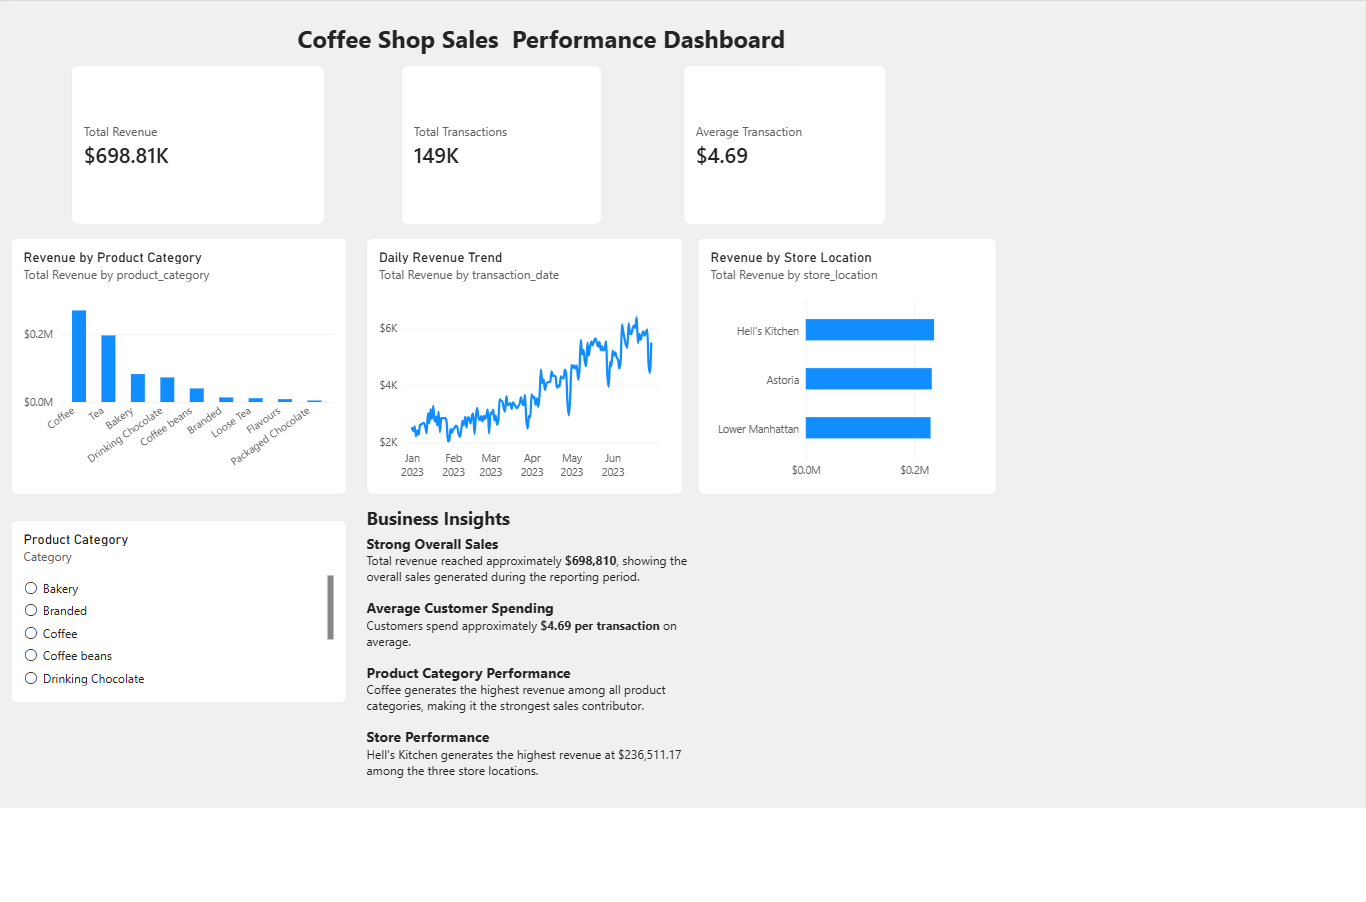

Layout of this report page (visuals, bound fields, positions):
{"tool":"powerbi","page":{"name":"Page 1","canvas":[1920,1080],"ordinal":0},"visuals":[{"type":"cardVisual","fields":{"Data":["Transactions.Total Revenue"]},"box":[96,86,338.6,212.9],"z":0},{"type":"cardVisual","fields":{"Data":["Transactions.Total Transactions"]},"box":[536,86,268.6,212.9],"z":1000},{"type":"cardVisual","fields":{"Data":["Transactions.Average Transaction"]},"box":[912,86,271.4,212.9],"z":2000},{"type":"clusteredColumnChart","title":"Revenue by Product Category","fields":{"Category":["Transactions.product_category"],"Y":["Transactions.Total Revenue"]},"box":[16,316,448,342],"z":3000},{"type":"lineChart","title":"Daily Revenue Trend","fields":{"Category":["Transactions.transaction_date"],"Y":["Transactions.Total Revenue"]},"box":[490,316,422,342],"z":4000},{"type":"clusteredBarChart","title":"Revenue by Store Location","fields":{"Category":["Transactions.store_location"],"Y":["Transactions.Total Revenue"]},"box":[932,316,398,342],"z":5000},{"type":"textbox","box":[380,27.5,686.2,115],"z":6000},{"type":"listSlicer","title":"Product Category","fields":{"Values":["Transactions.product_category"]},"box":[16,692,447,244],"z":7000},{"type":"textbox","box":[490,672,422,38],"z":8000},{"type":"textbox","box":[490,710,442,370],"z":9000}]}

Visuals, with their boxes on the page's 1920x1080 design canvas (x1, y1, x2, y2). These are canvas units, not pixel positions in the 1366x902 screenshot, which may show the page scaled, cropped or inside an application window:
cardVisual - Transactions.Total Revenue: 96 86 435 299
cardVisual - Transactions.Total Transactions: 536 86 805 299
cardVisual - Transactions.Average Transaction: 912 86 1183 299
"Revenue by Product Category" clusteredColumnChart: 16 316 464 658
"Daily Revenue Trend" lineChart: 490 316 912 658
"Revenue by Store Location" clusteredBarChart: 932 316 1330 658
textbox: 380 28 1066 142
"Product Category" listSlicer: 16 692 463 936
textbox: 490 672 912 710
textbox: 490 710 932 1080
